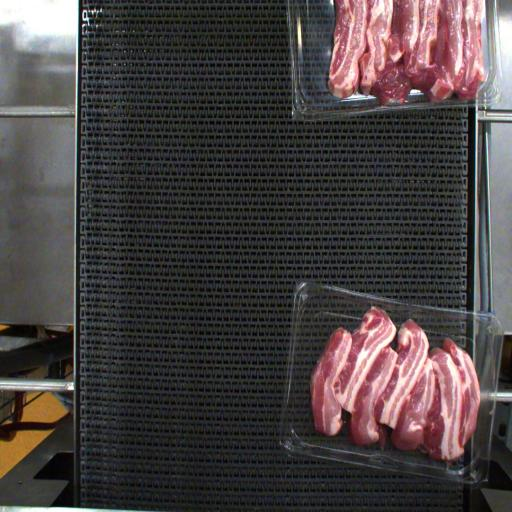packaging-error: (360, 294, 382, 316)
